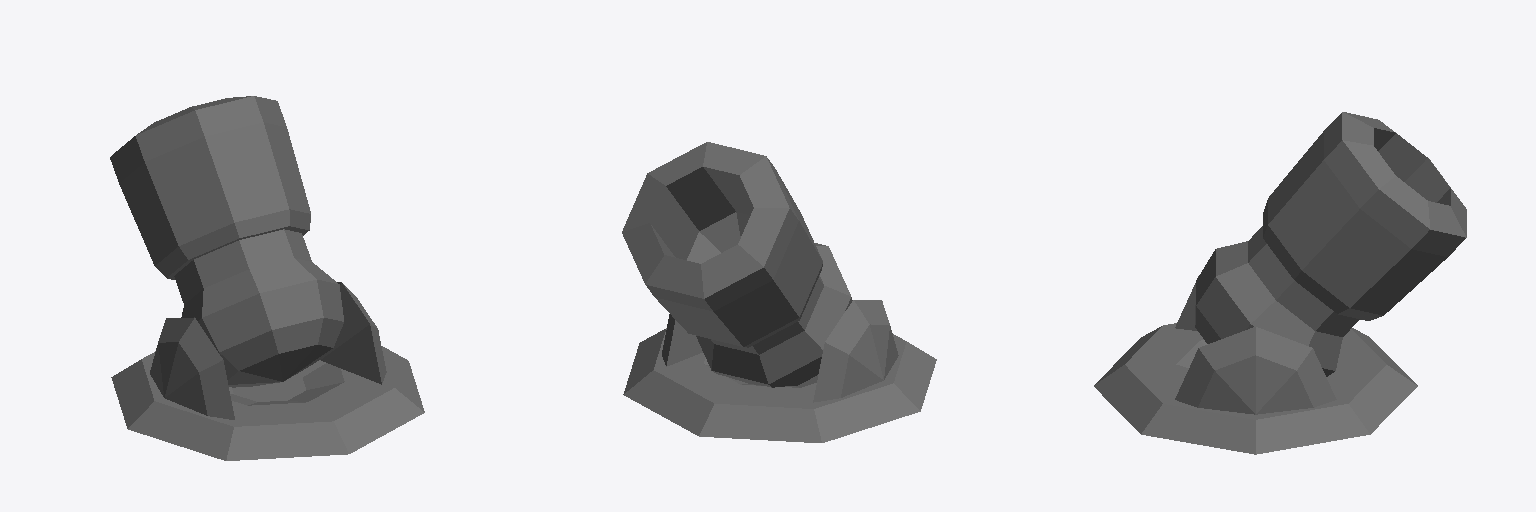
Rendered from cannon.obj.
The picture shows the model from 3 angles: view 1: azimuth 30°, elevation 25°; view 2: azimuth 150°, elevation 25°; view 3: azimuth 270°, elevation 25°; orthographic projection.
Parts seen in each view (by area): view 1: Object_1, Object_4, Object_2, Object_3; view 2: Object_1, Object_4, Object_2, Object_3; view 3: Object_1, Object_4, Object_2, Object_3.
Part boxes in pixels (bbox=[...]): Object_1: bbox=[110, 96, 310, 279]; Object_4: bbox=[111, 346, 424, 460]; Object_2: bbox=[174, 229, 343, 387]; Object_3: bbox=[150, 282, 386, 419]; Object_1: bbox=[622, 142, 822, 347]; Object_4: bbox=[623, 328, 936, 442]; Object_2: bbox=[696, 243, 852, 387]; Object_3: bbox=[662, 300, 898, 402]; Object_1: bbox=[1263, 112, 1466, 320]; Object_4: bbox=[1094, 323, 1417, 454]; Object_2: bbox=[1195, 226, 1359, 376]; Object_3: bbox=[1175, 276, 1336, 414].
Bounding box in the file's own units: 32 × 28.29 × 36.79.